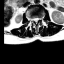CCS_normal: (35, 15, 37, 25)
LFS_normal: (39, 15, 41, 21)
LLS_normal: (37, 15, 39, 22)
RFS_normal: (30, 15, 32, 22)
RLS_normal: (32, 15, 35, 22)
